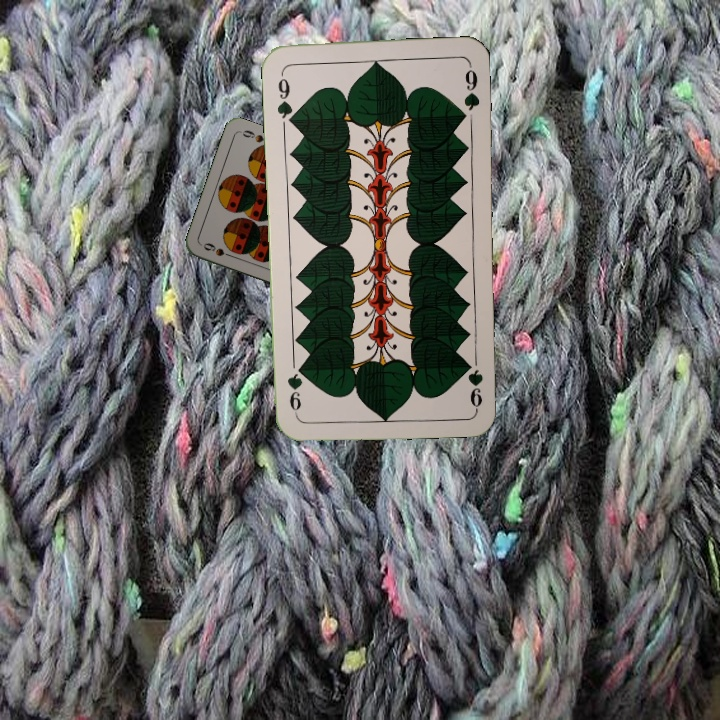G9: (273, 68, 297, 127), (465, 351, 486, 410)
S9: (199, 239, 238, 261)
